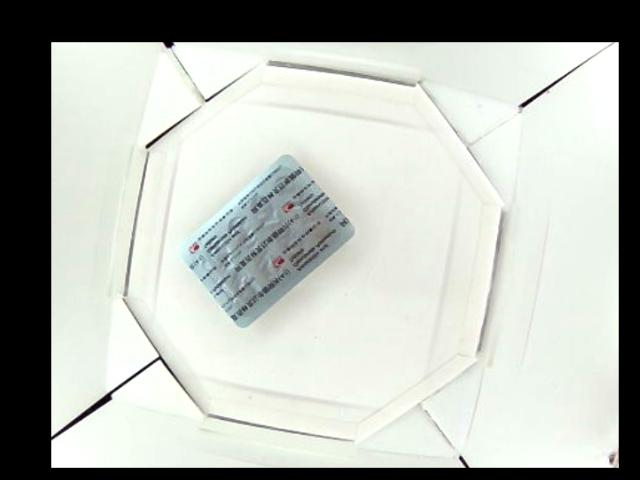Medicine: (180, 148, 355, 330)
